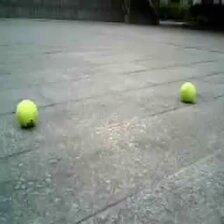tennis: (16, 99, 37, 122), (179, 82, 195, 101)
